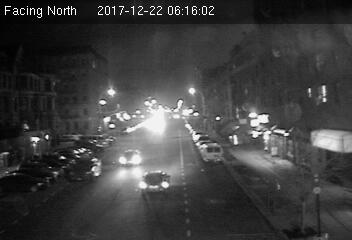car: (68, 153, 104, 182), (139, 169, 173, 195), (117, 148, 144, 168)
truck: (201, 142, 224, 162)
